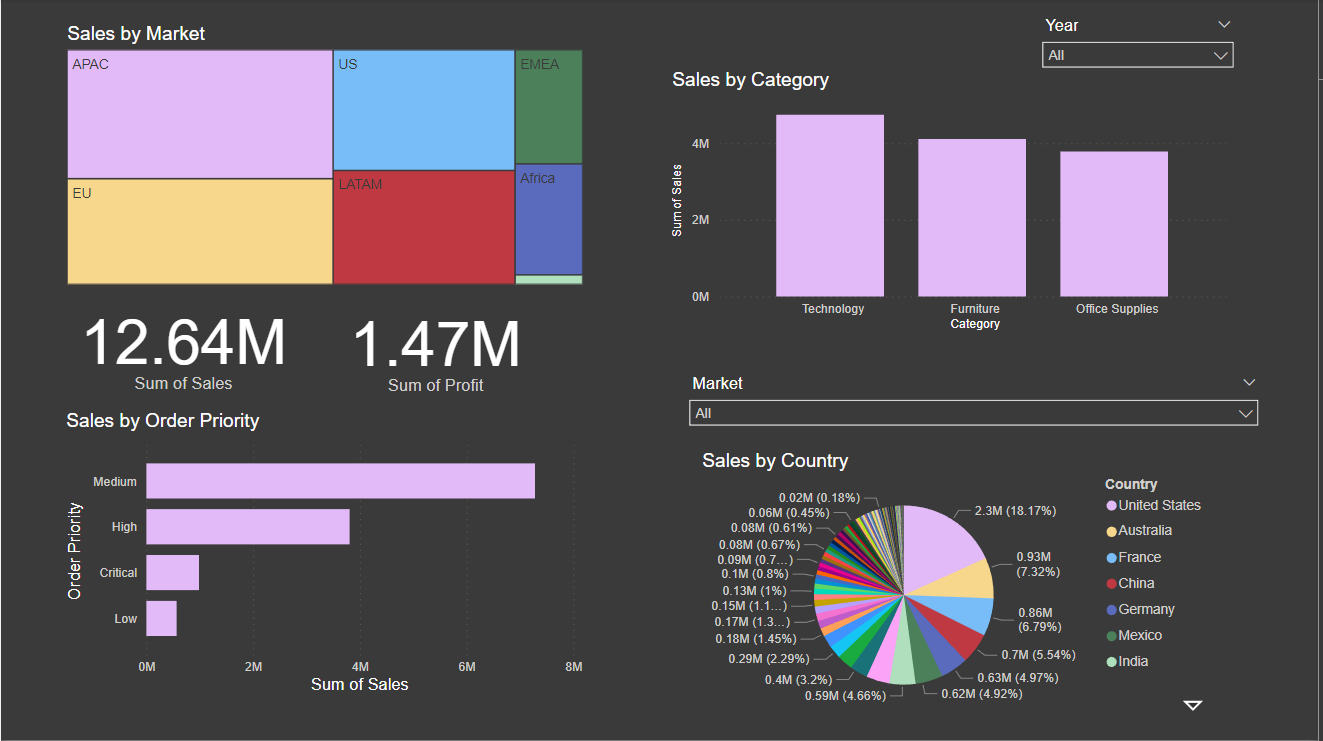

The dashboard page shown, as its layout file describes it:
{"tool":"powerbi","page":{"name":"Sales","canvas":[1280,720],"ordinal":1},"visuals":[{"type":"pieChart","title":"Sales by Country","fields":{"Category":["Global-Superstore.Country"],"Y":["Sum(Global-Superstore.Sales)"]},"box":[676.4,438.3,569.5,261.4],"z":0},{"type":"slicer","fields":{"Values":["Global-Superstore.Market"]},"box":[659,359.6,573.4,78.7],"z":1000},{"type":"slicer","fields":{"Values":["Global-Superstore.YearColumn"]},"box":[1002,11.7,206,66.1],"z":2000},{"type":"clusteredColumnChart","title":"Sales by Category","fields":{"Category":["Global-Superstore.Category"],"Y":["Sum(Global-Superstore.Sales)"]},"box":[647.3,68,553,260.5],"z":3001},{"type":"clusteredBarChart","title":"Sales by Order Priority","fields":{"Category":["Global-Superstore.Order Priority","Global-Superstore.Market"],"Y":["Sum(Global-Superstore.Sales)"]},"box":[58.3,399.5,512.2,279.9],"z":3002},{"type":"treemap","title":"Sales by Market","fields":{"Values":["Sum(Global-Superstore.Sales)"],"Group":["Global-Superstore.Market"]},"box":[59.3,23.3,511.2,259.5],"z":3003},{"type":"card","fields":{"Values":["Sum(Global-Superstore.Sales)"]},"box":[70,282.8,214.8,107.9],"z":3004},{"type":"card","fields":{"Values":["Sum(Global-Superstore.Profit)"]},"box":[314.9,286.7,214.8,104],"z":3005}]}

Visuals, with their boxes in screenshot pixels (x1, y1, x2, y2), scaled from the page's 1280x720 canvas onto the 1323x741 screenshot:
"Sales by Country" pieChart: (699, 451, 1288, 720)
slicer - Global-Superstore.Market: (681, 370, 1274, 451)
slicer - Global-Superstore.YearColumn: (1036, 12, 1249, 80)
"Sales by Category" clusteredColumnChart: (669, 70, 1241, 338)
"Sales by Order Priority" clusteredBarChart: (60, 411, 590, 699)
"Sales by Market" treemap: (61, 24, 590, 291)
card - Sum(Global-Superstore.Sales): (72, 291, 294, 402)
card - Sum(Global-Superstore.Profit): (325, 295, 547, 402)
